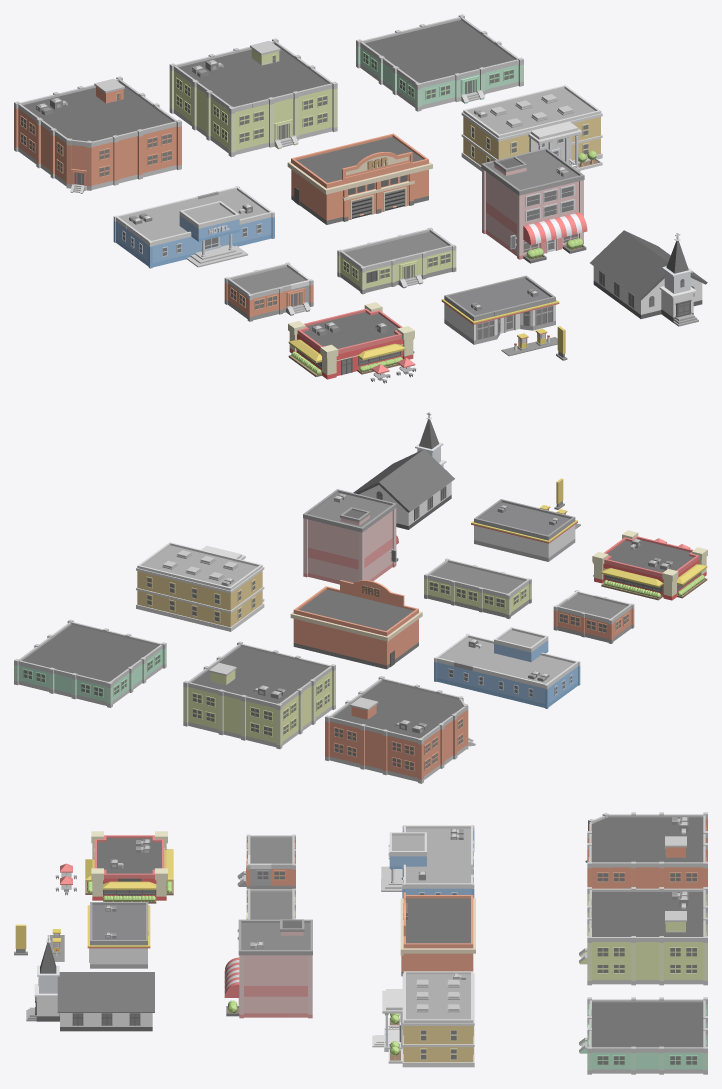
The model's file is free_buildings_low_poly.glb.
3 views of the same model, one above another, from view 1: azimuth 30°, elevation 25°; view 2: azimuth 150°, elevation 25°; view 3: azimuth 270°, elevation 25° (orthographic). The views are drawn at different scales.
Parts seen in each view (by area): view 1: mergedBlocks; view 2: mergedBlocks; view 3: mergedBlocks.
Part boxes in pixels (left/top/right/bottom): mergedBlocks: left=14, top=14, right=707, bottom=383; mergedBlocks: left=14, top=412, right=707, bottom=783; mergedBlocks: left=14, top=812, right=707, bottom=1074.
Bounding box in the file's own units: 22.84 × 3.88 × 29.88.
